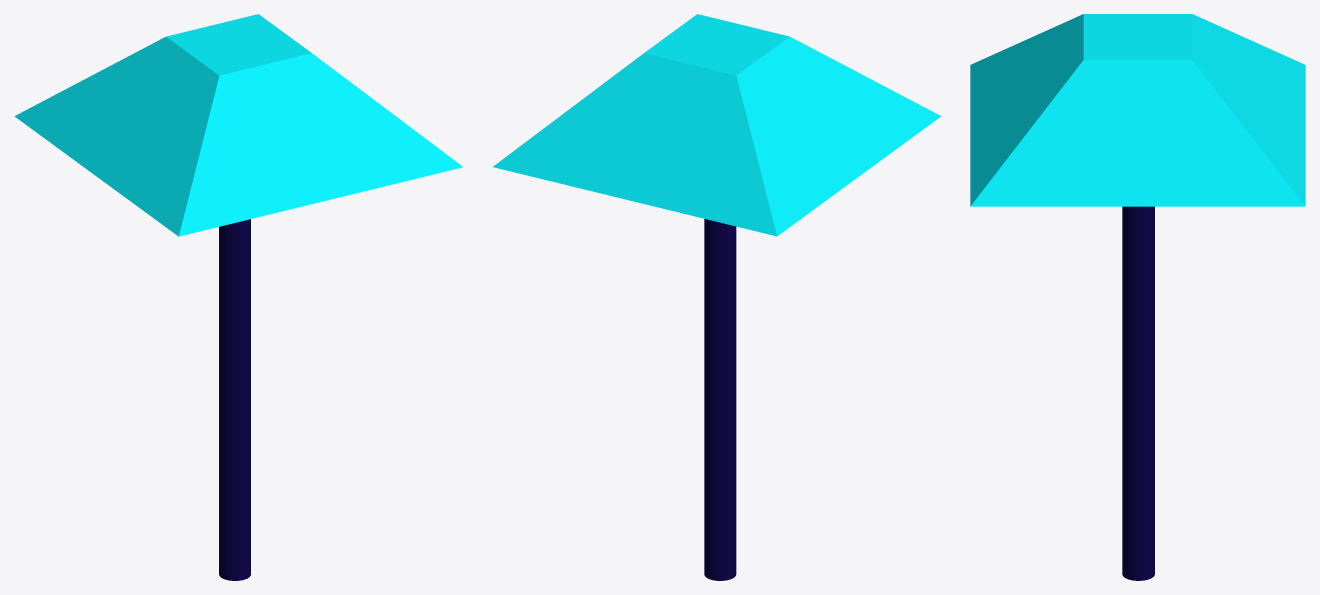
Rendered from crystal jungle tree.fbx.
3 renders of one model, left to right at view 1: azimuth 30°, elevation 25°; view 2: azimuth 150°, elevation 25°; view 3: azimuth 270°, elevation 25°, orthographic.
Visible parts, largest first — view 1: tree_top, tall_tree; view 2: tree_top, tall_tree; view 3: tree_top, tall_tree.
Boxes of the visible parts, left/top/right/bottom form: tree_top: left=14, top=14, right=463, bottom=236; tall_tree: left=219, top=219, right=250, bottom=580; tree_top: left=493, top=14, right=940, bottom=236; tall_tree: left=704, top=219, right=736, bottom=580; tree_top: left=970, top=14, right=1305, bottom=206; tall_tree: left=1122, top=206, right=1154, bottom=580.
Size of the model in its own units: 41.89 by 74.28 by 41.89.
